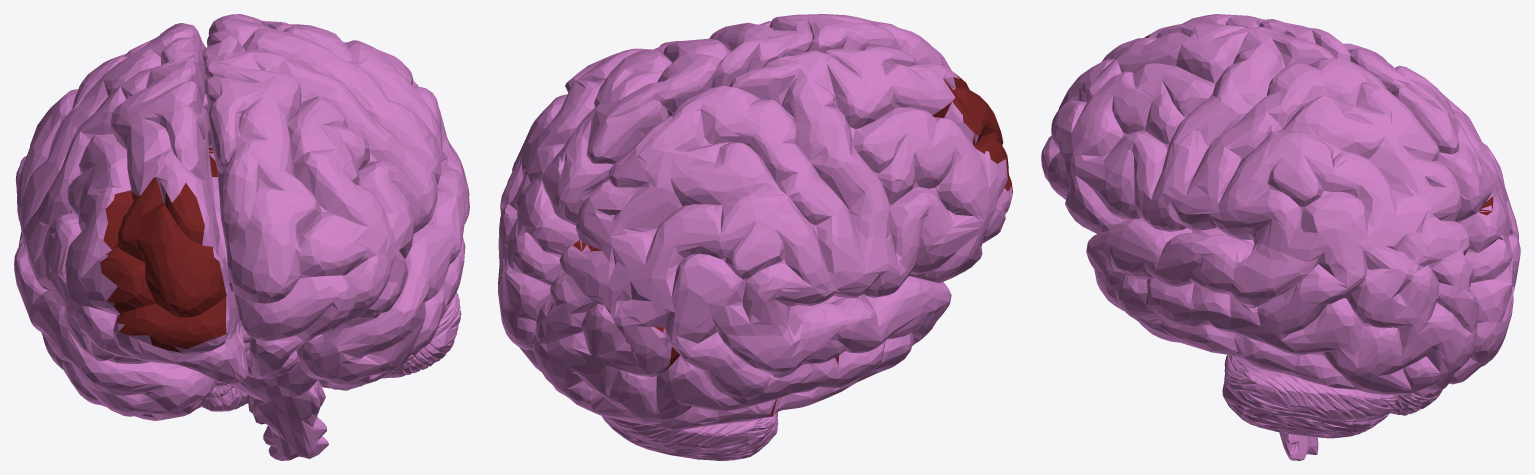
Rendered from Foot2.obj.
3 renders of one model, left to right at view 1: azimuth 30°, elevation 25°; view 2: azimuth 150°, elevation 25°; view 3: azimuth 270°, elevation 25°, orthographic. The views are drawn at different scales.
Parts seen in each view (by area): view 1: default; view 2: default; view 3: default.
Boxes of the visible parts, bbox=[...] form: default: bbox=[14, 14, 469, 460]; default: bbox=[498, 14, 1012, 460]; default: bbox=[1041, 14, 1520, 460].
Size of the model in its own units: 5.78 by 5.6 by 6.27.
